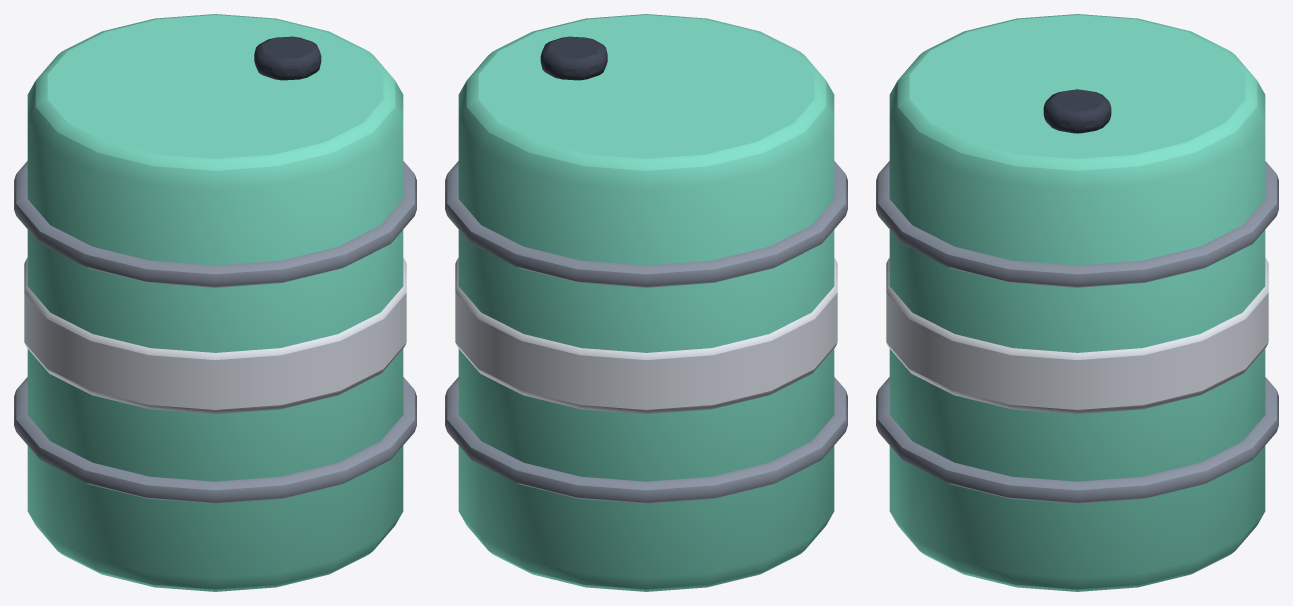
Rendered from ware_kuehlmittel.fbx.
3 renders of one model, left to right at view 1: azimuth 30°, elevation 25°; view 2: azimuth 150°, elevation 25°; view 3: azimuth 270°, elevation 25°, orthographic.
Parts seen in each view (by area): view 1: ware_kuehlmittel_Koerper; view 2: ware_kuehlmittel_Koerper; view 3: ware_kuehlmittel_Koerper.
Part boxes in pixels (left/top/right/bottom): ware_kuehlmittel_Koerper: left=14, top=14, right=416, bottom=591; ware_kuehlmittel_Koerper: left=445, top=14, right=847, bottom=591; ware_kuehlmittel_Koerper: left=876, top=14, right=1278, bottom=591.
Size of the model in its own units: 0.3432 by 0.42 by 0.338.
